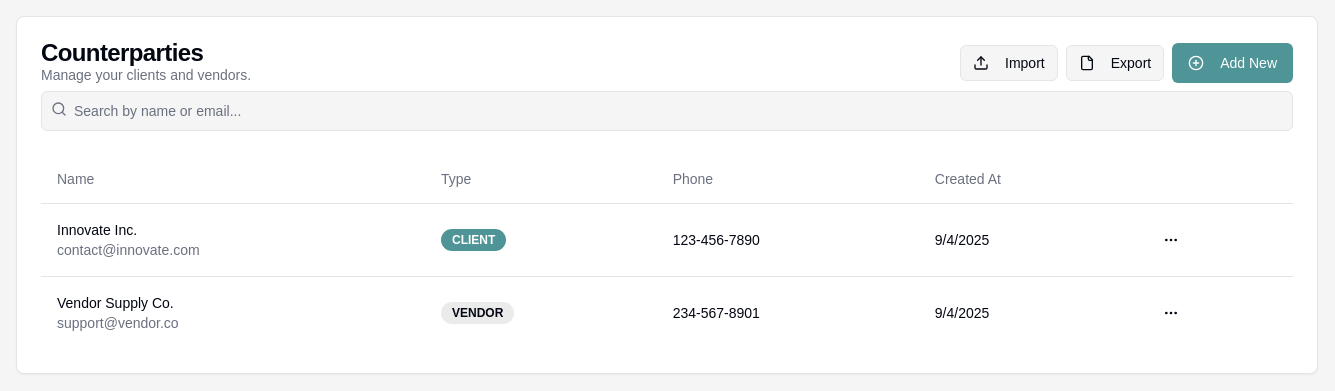
CounterpartiesPage › allows searching for a counterparty
Expected: the text "Innovate Inc." is shown, x1=57 y1=222 x2=137 y2=238
Type "Innovate" into the field with placeholder "Search by name or email..." at coordinates (667, 111), box x1=41 y1=91 x2=1293 y2=131
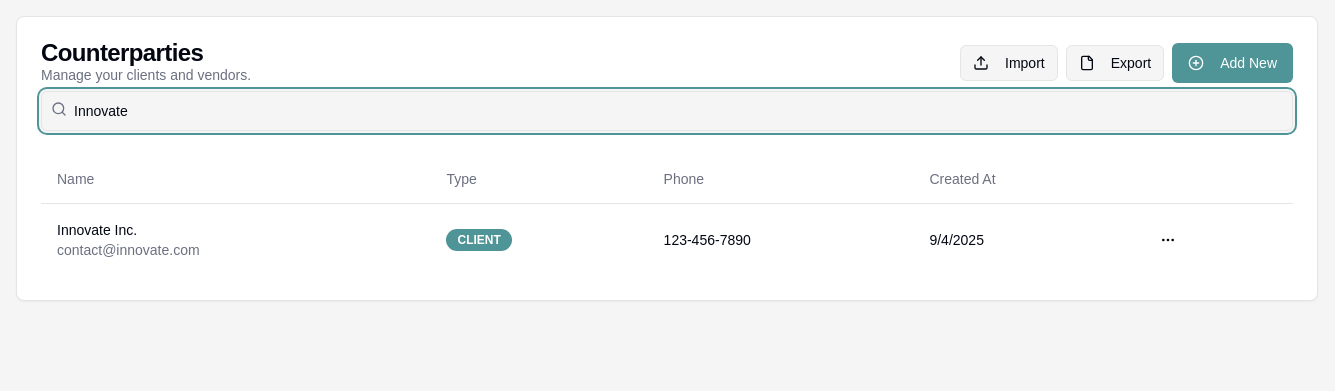
Expected: the text "Innovate Inc." is shown, x1=57 y1=222 x2=137 y2=238
Result: the text "Vendor Supply Co." is gone
